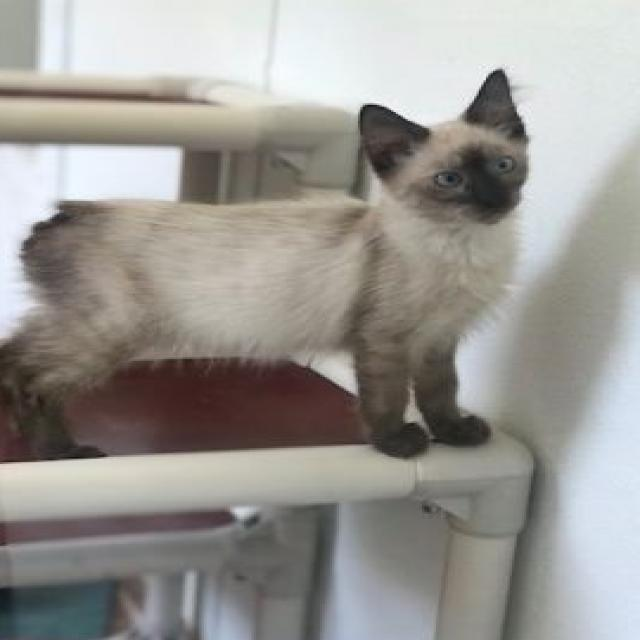Siamese: (0, 60, 533, 462)
